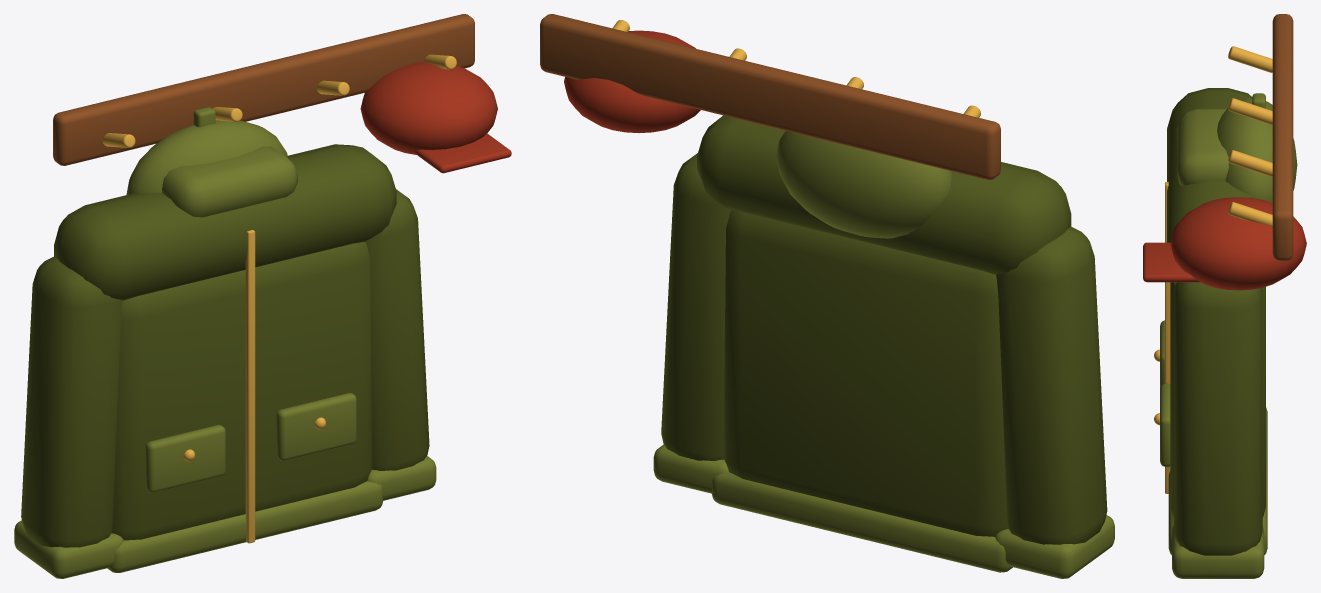
Rendered from coat_rack.glb.
3 renders of one model, left to right at view 1: azimuth 30°, elevation 25°; view 2: azimuth 150°, elevation 25°; view 3: azimuth 270°, elevation 25°, orthographic. The views are drawn at different scales.
Visible parts, largest first — view 1: coat_rack; view 2: coat_rack; view 3: coat_rack.
Boxes of the visible parts, x1,y1,x2,y2 form: coat_rack: (14,14,511,578); coat_rack: (540,14,1114,578); coat_rack: (1143,14,1306,578).
Size of the model in its own units: 0.7946 by 0.675 by 0.24.
